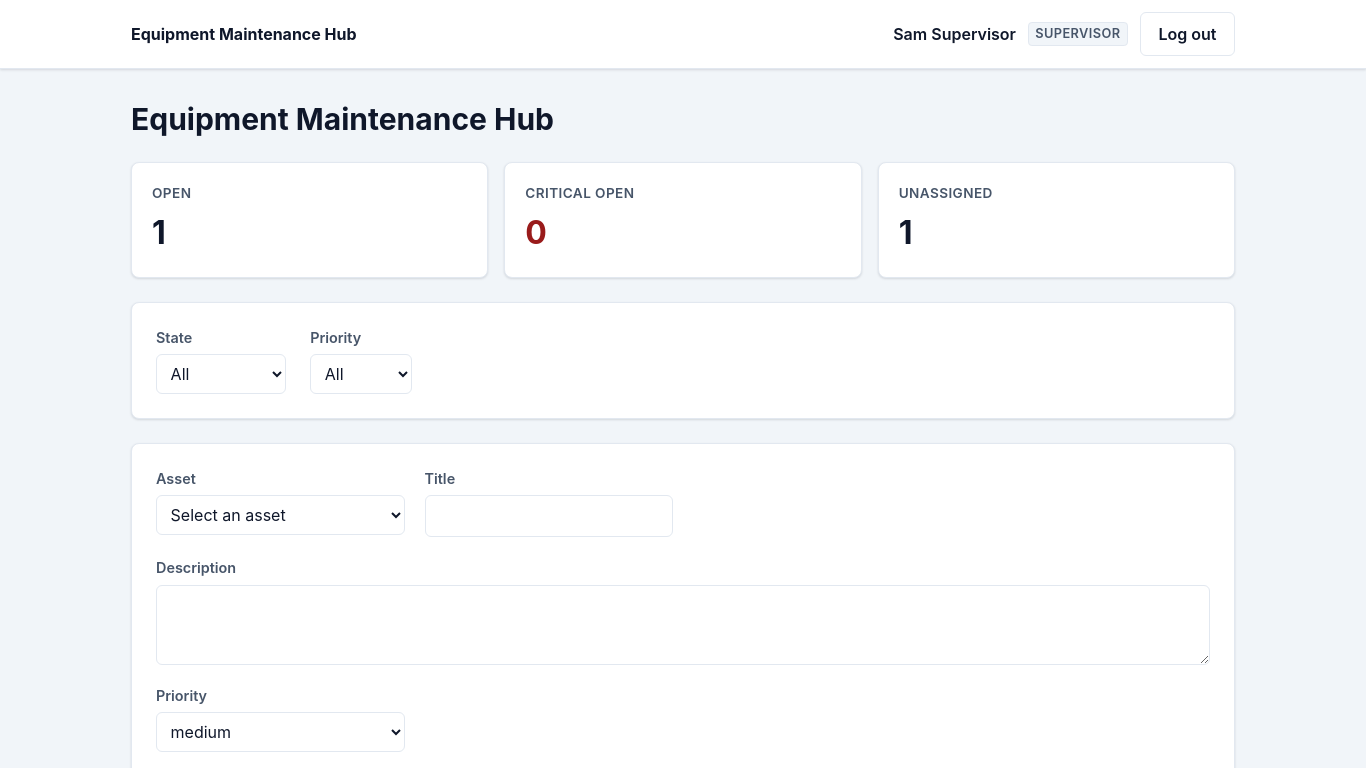
Test case: App authentication › shows the board for a stored session and returns to the login form on logout
The image size is (1366, 768).
Expected: the element named "Current user" shows "Sam Supervisor", [893,24,1016,44]
Click the button "Log out" at x=1187, y=34, box [1140,12,1235,56]
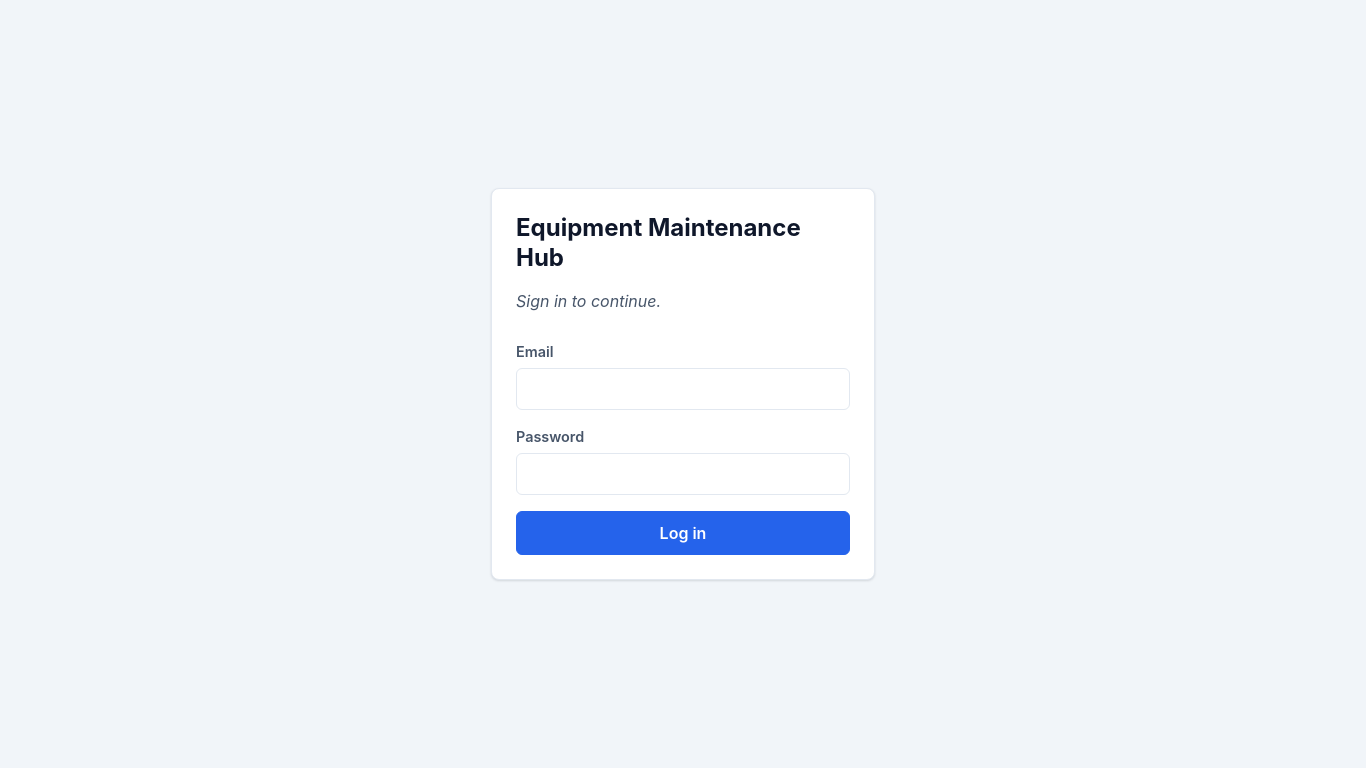
Now the form "Log in" is shown, box [491,188,875,580]
